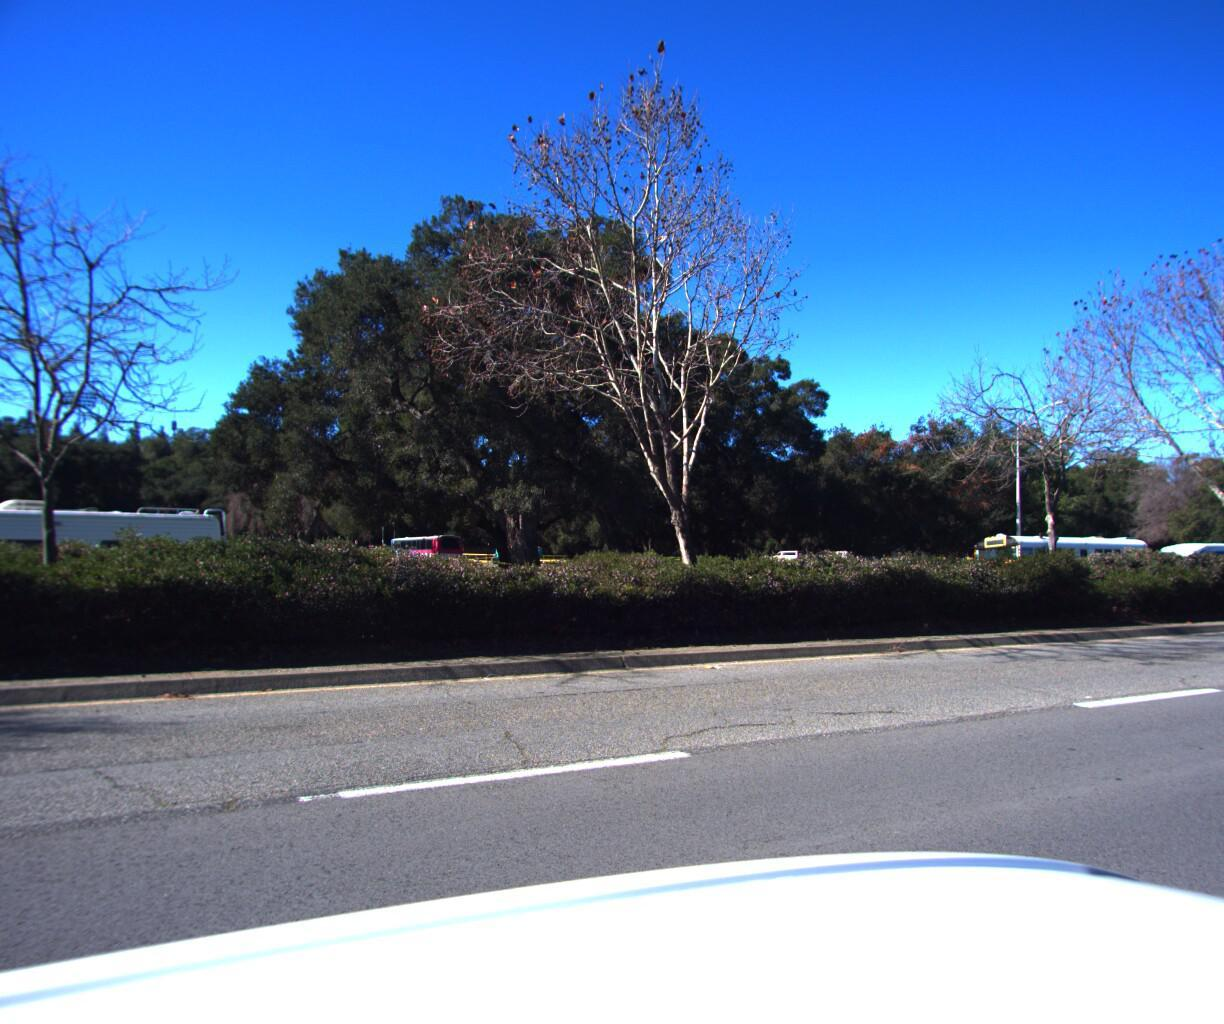bus: (950, 527, 1155, 589)
other_vehicle: (0, 485, 241, 600), (1139, 538, 1224, 581)
